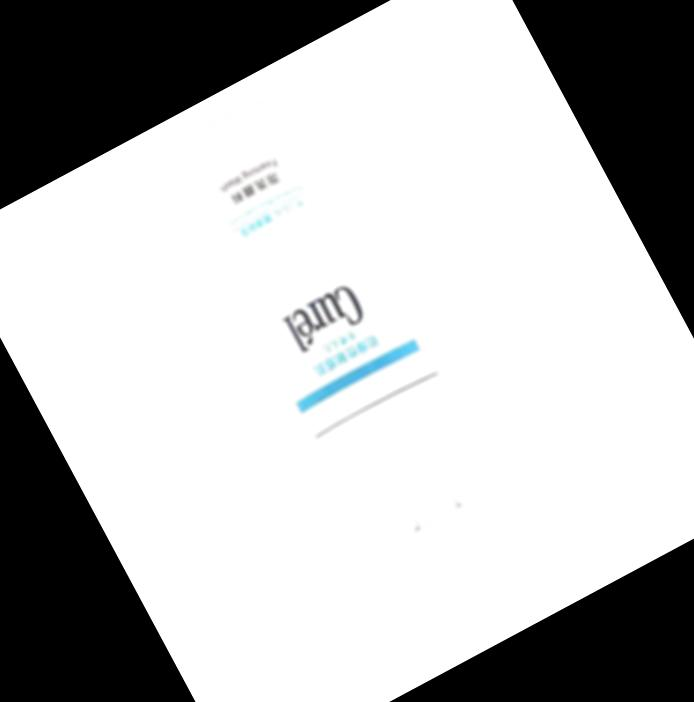cosmetic: (132, 69, 579, 651)
